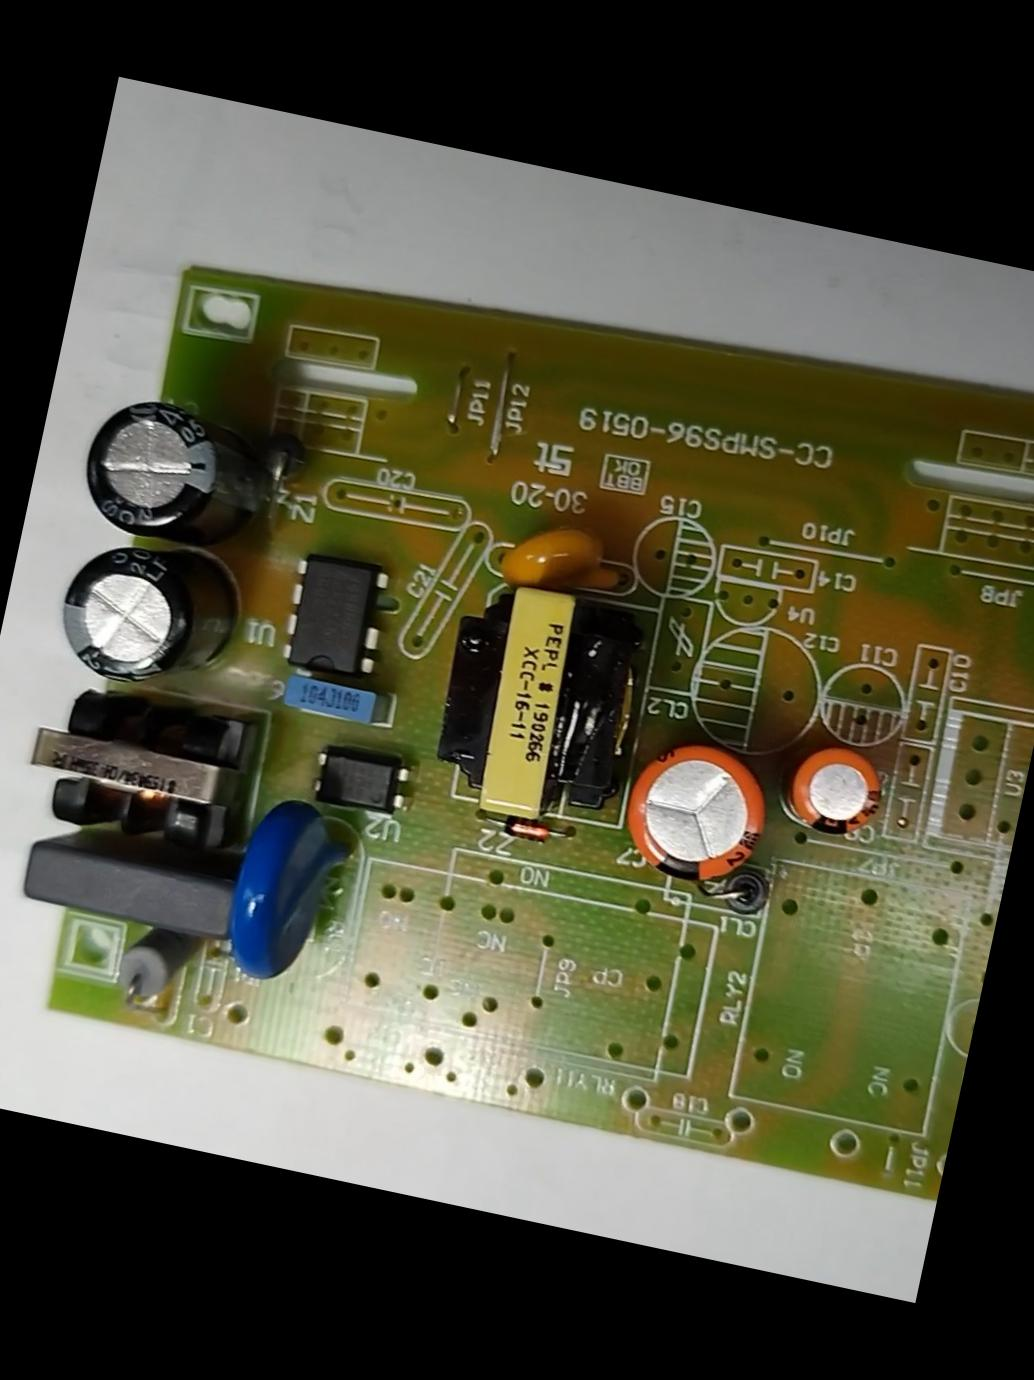Cap1: (611, 733, 784, 897)
Cap2: (779, 743, 892, 846)
Cap3: (46, 531, 252, 707)
Cap4: (70, 390, 275, 556)
MOSFET: (273, 545, 402, 688)
Mov: (216, 792, 363, 997)
Resistor: (103, 920, 203, 1017)
Transformer: (420, 567, 656, 840), (13, 678, 252, 871)
